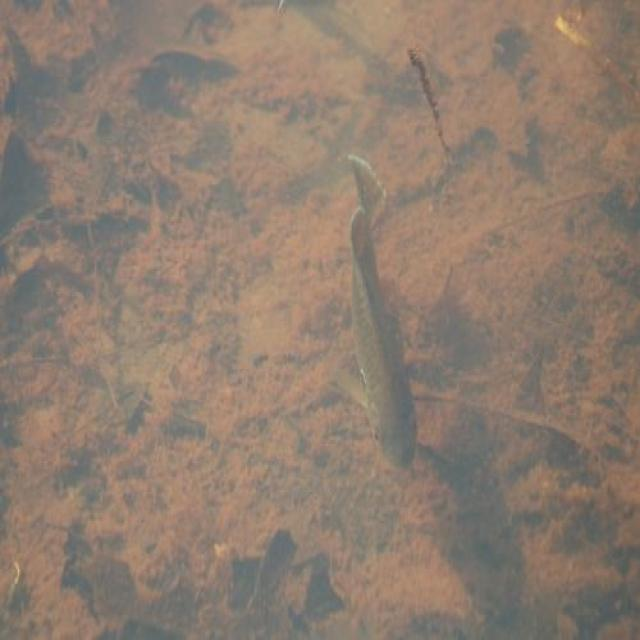Gunes Levregi: (340, 152, 430, 482)
